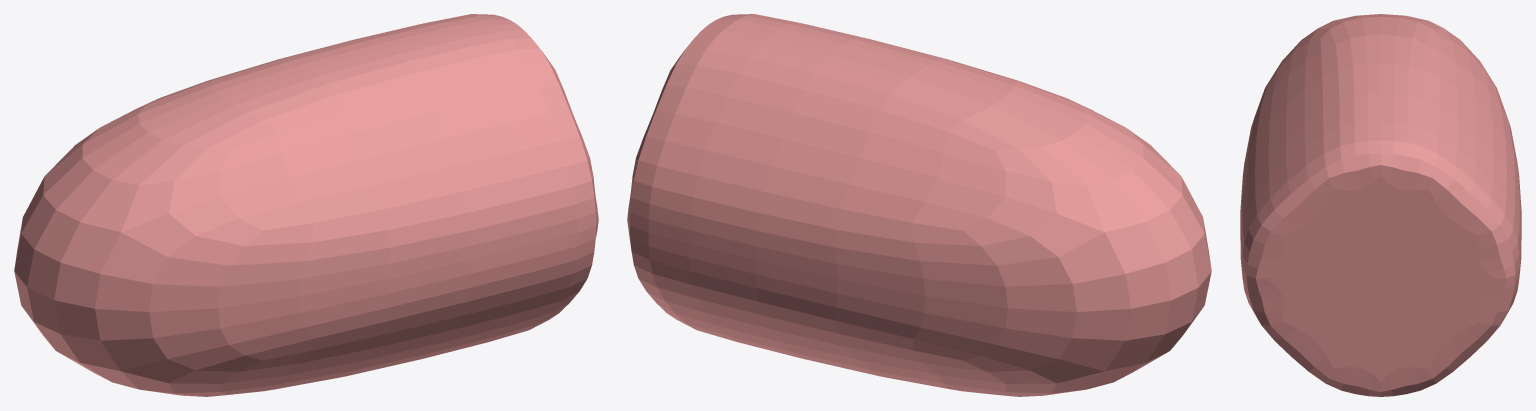
Rendered from SausageLeft.fbx.
The picture shows the model from 3 angles, left to right: view 1: azimuth 30°, elevation 25°; view 2: azimuth 150°, elevation 25°; view 3: azimuth 270°, elevation 25°; orthographic projection. The views are drawn at different scales.
Visible parts, largest first — view 1: СосискаЛев; view 2: СосискаЛев; view 3: СосискаЛев.
Boxes of the visible parts, x1,y1,x2,y2 form: СосискаЛев: [14, 14, 598, 396]; СосискаЛев: [627, 14, 1211, 396]; СосискаЛев: [1240, 14, 1521, 396].
Bounding box in the file's own units: 172 × 99.34 × 99.34.
